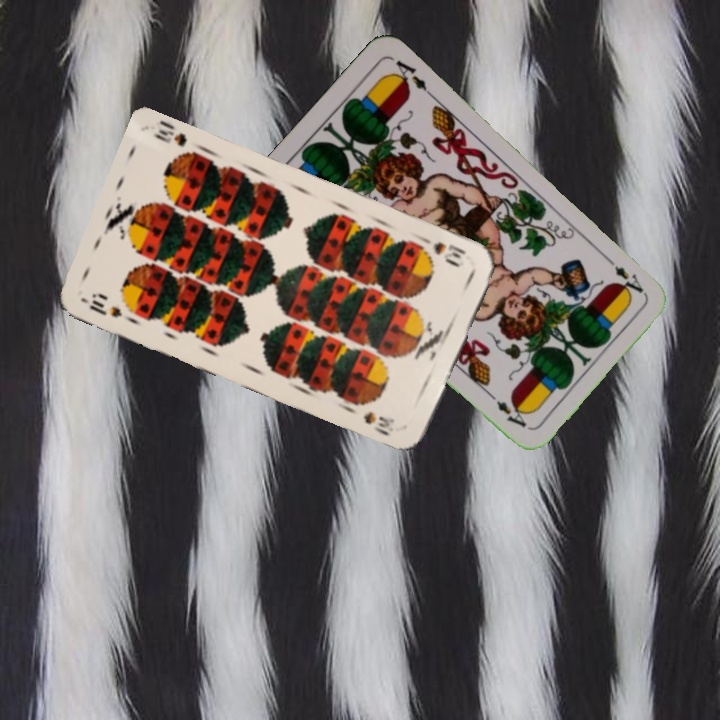EA: (600, 251, 646, 296)
S10: (418, 233, 469, 268), (84, 291, 125, 320)
